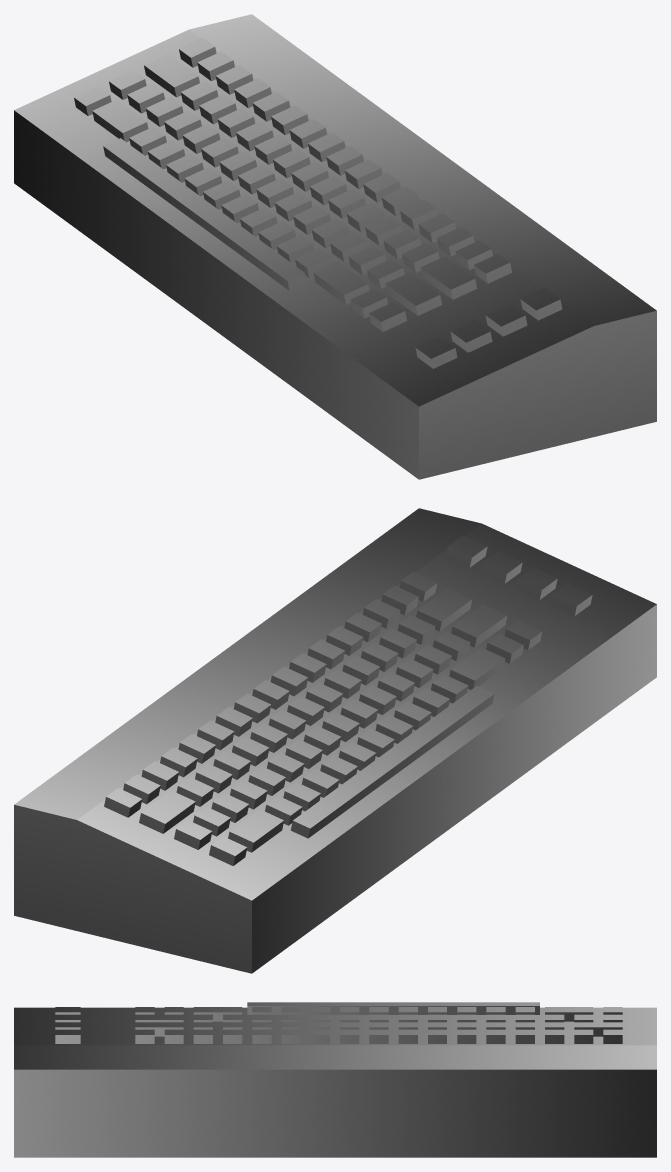
3 views of the same model, one above another, from view 1: azimuth 30°, elevation 25°; view 2: azimuth 150°, elevation 25°; view 3: azimuth 270°, elevation 25° (orthographic). The views are drawn at different scales.
Parts seen in each view (by area): view 1: c69; view 2: c69; view 3: c69.
Part boxes in pixels (bbox=[...]): c69: bbox=[14, 14, 656, 479]; c69: bbox=[14, 508, 656, 973]; c69: bbox=[14, 1002, 656, 1157].
Bounding box in the file's own units: 0.2533 × 0.1225 × 0.7468.
Materials: 1 (1 with a texture image).
